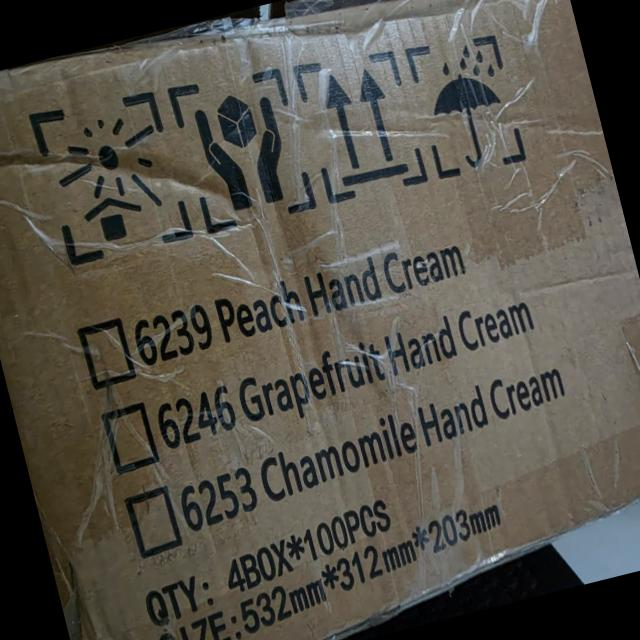carton_box: (0, 0, 640, 640)
handle_with_care_label: (159, 50, 324, 246)
keep_dry_label: (398, 13, 540, 202)
package_damage: (98, 0, 567, 100), (43, 523, 130, 640)
protect_from_heat_label: (23, 72, 203, 281)
this_side_up_label: (290, 32, 428, 216)
